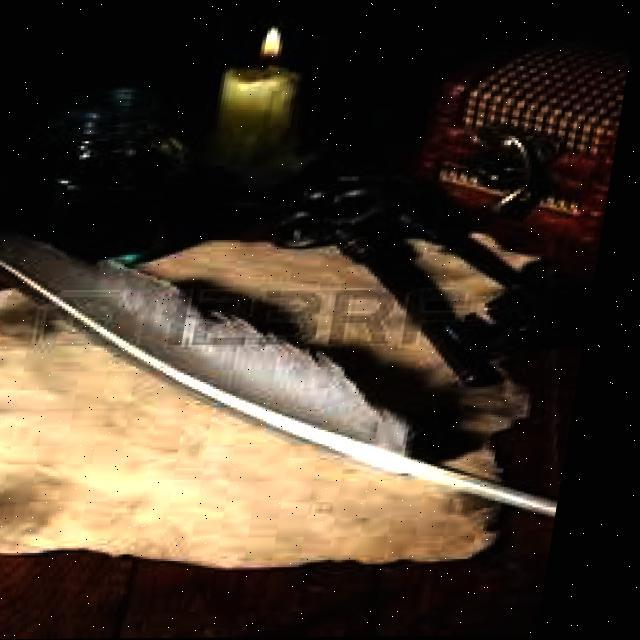Fire: (247, 26, 290, 66)
